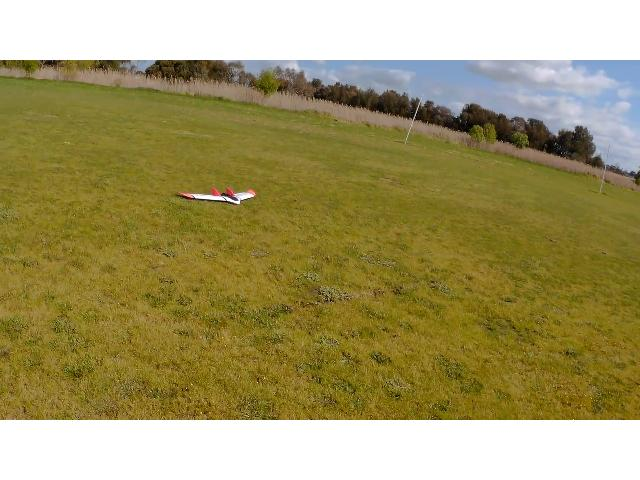Anti-Drone: (178, 189, 258, 205)
